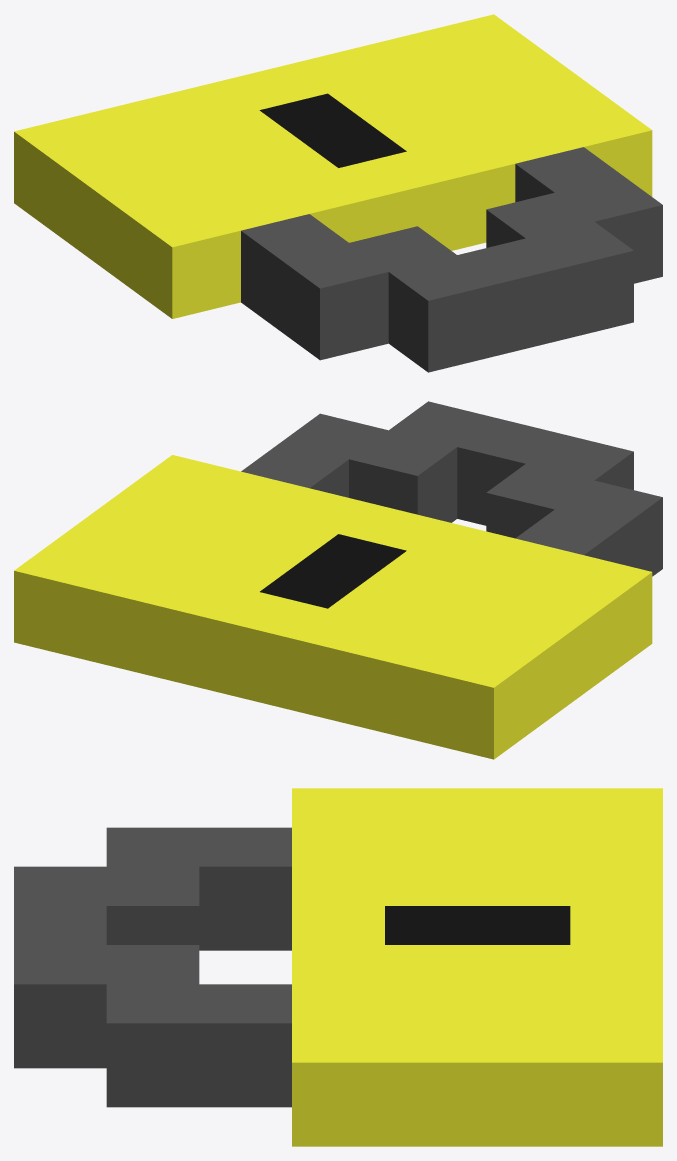
The model's file is Lock.gltf.
3 renders of one model, top to bottom at view 1: azimuth 30°, elevation 25°; view 2: azimuth 150°, elevation 25°; view 3: azimuth 270°, elevation 25°, orthographic. The views are drawn at different scales.
Parts seen in each view (by area): view 1: Lock; view 2: Lock; view 3: Lock.
Boxes of the visible parts, x1,y1,x2,y2 form: Lock: (14, 14, 662, 372); Lock: (14, 401, 662, 759); Lock: (14, 788, 662, 1146).
Bounding box in the file's own units: 0.7 × 0.1 × 0.7.
Materials: 1 (1 with a texture image).
